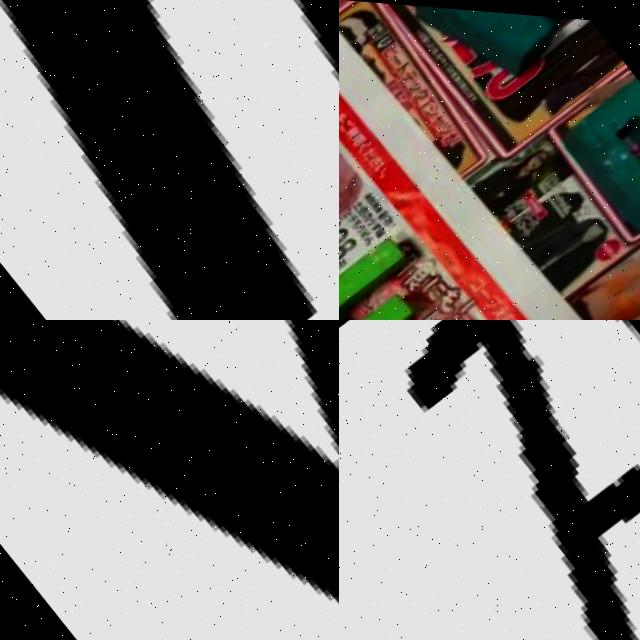F: (339, 224, 465, 320)
K: (402, 0, 584, 86)
N: (0, 0, 339, 320)
P: (404, 320, 640, 640)
V: (0, 320, 339, 640)
